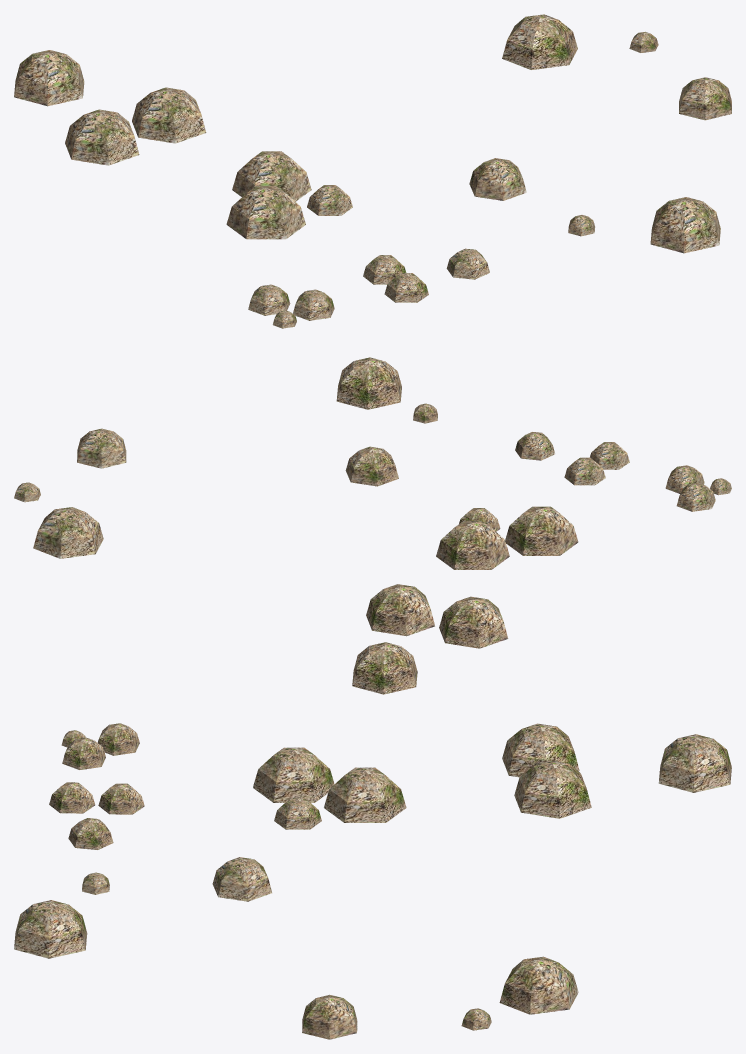
File: ground-clutter2.fbx
3 renders of one model, top to bottom at view 1: azimuth 30°, elevation 25°; view 2: azimuth 150°, elevation 25°; view 3: azimuth 270°, elevation 25°, orthographic. The views are drawn at different scales.
Visible parts, largest first — view 1: Sphere; view 2: Sphere; view 3: Sphere.
Part boxes in pixels (left/top/right/bottom): Sphere: left=14, top=14, right=731, bottom=328; Sphere: left=14, top=357, right=731, bottom=694; Sphere: left=14, top=723, right=731, bottom=1039.
Bounding box in the file's own units: 86.73 × 6.66 × 88.84.
